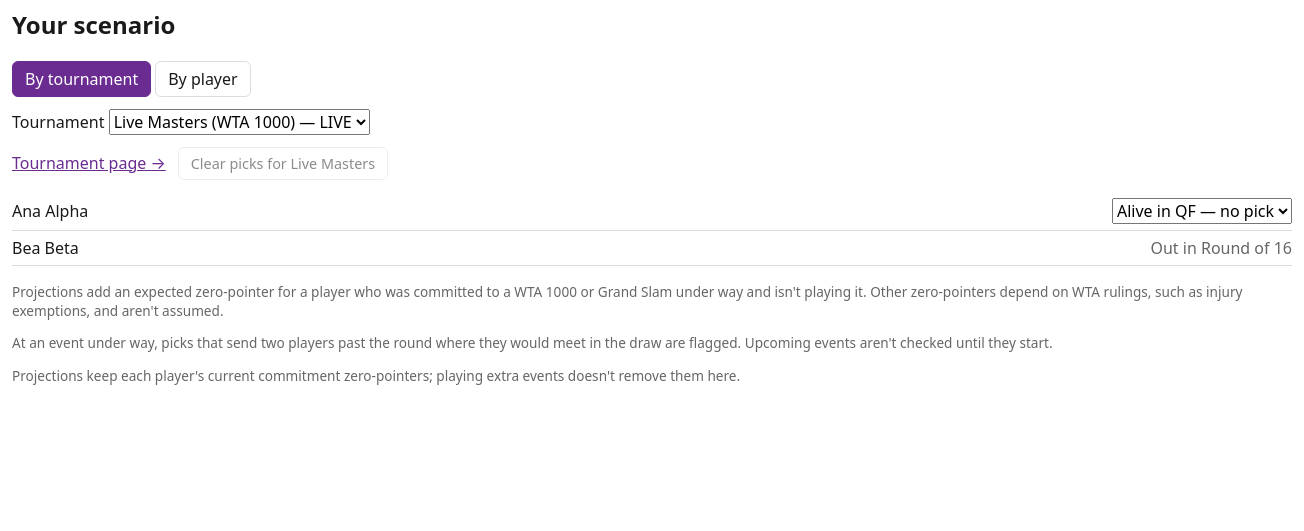
Test: ScenarioEditor › entry lists › tags entered events in the By player tab
Click the tab "By player" at (203, 79), box [155,61,251,97]
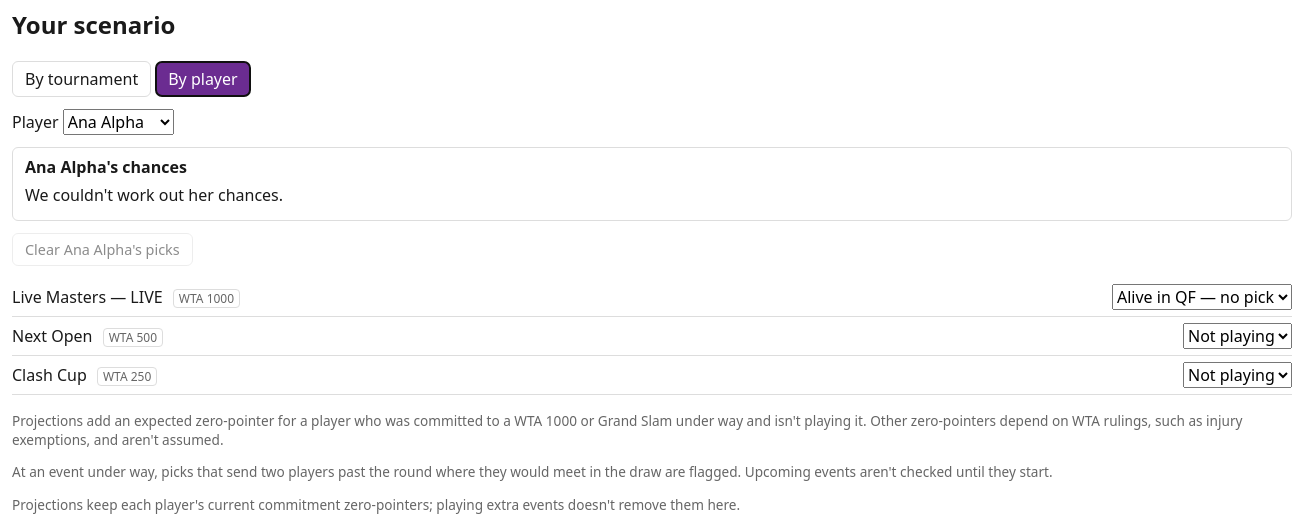
Select "Cat Gamma" in the dropdown labelled "Player" at (118, 122), box [63,109,174,135]
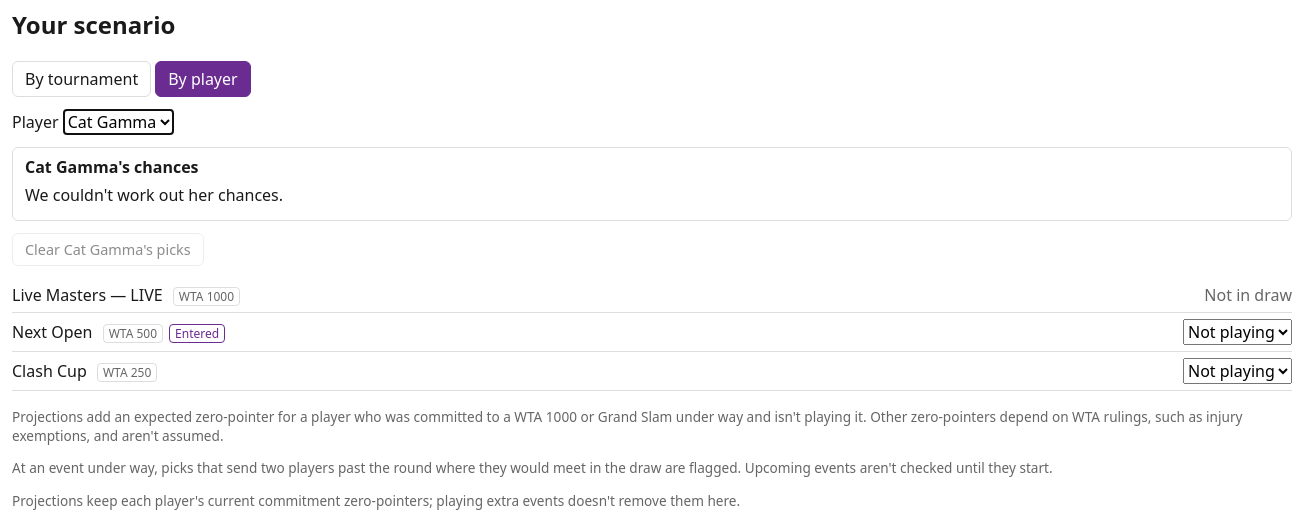
Expected: the list item "Clash Cup WTA 250" does not show "Entered", [12,352,1292,391]
Expected: the list item "Next Open WTA 500 Entered" is shown, [12,313,1292,352]
